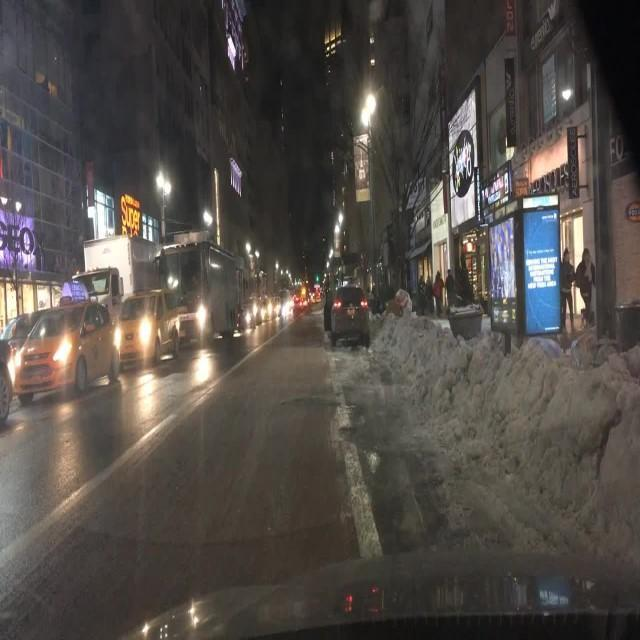normal: (6, 298, 122, 404), (114, 290, 182, 374), (327, 287, 375, 352)
